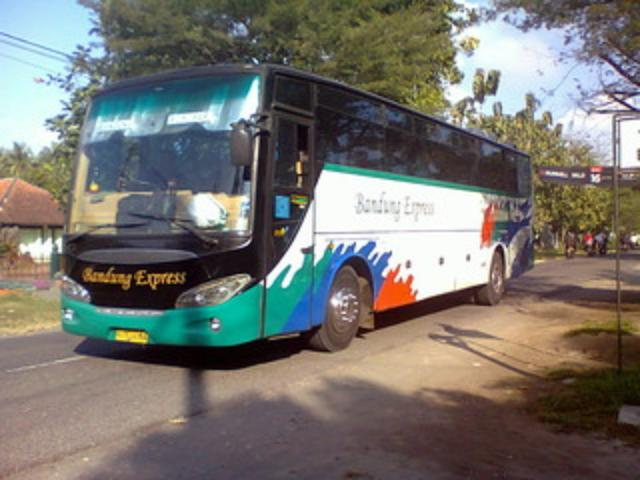bus: (56, 62, 534, 354)
